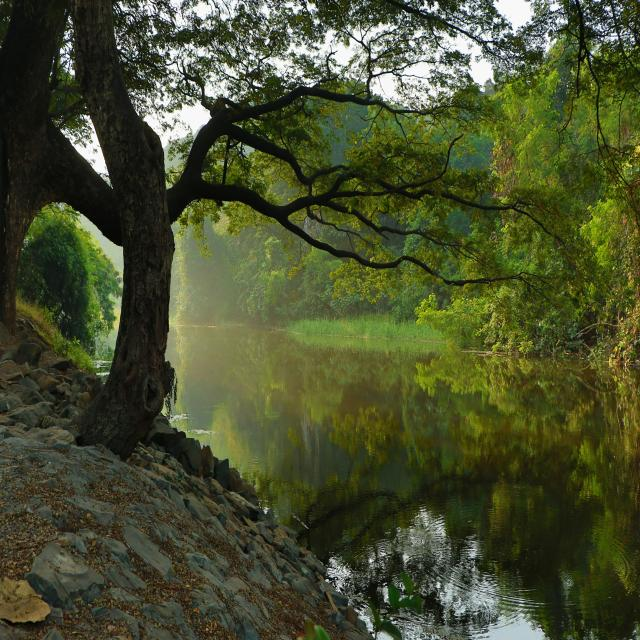Forest: (0, 2, 640, 637)
